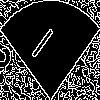I: (25, 24, 56, 68)
